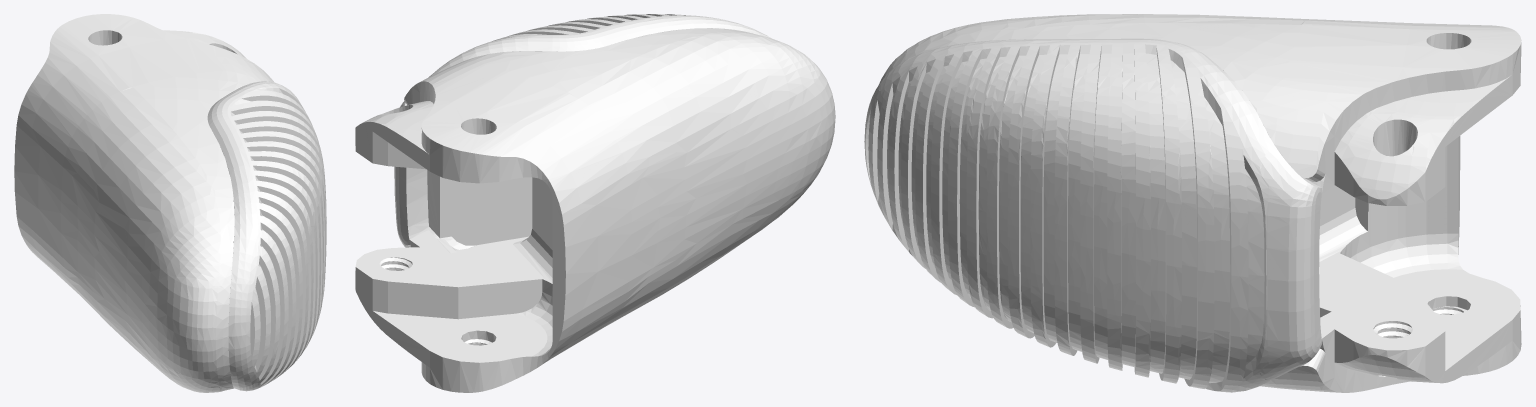
Rendered from rh_middle_distal_vis.obj.
3 renders of one model, left to right at view 1: azimuth 30°, elevation 25°; view 2: azimuth 150°, elevation 25°; view 3: azimuth 270°, elevation 25°, orthographic. The views are drawn at different scales.
Parts seen in each view (by area): view 1: rh_middle_distal; view 2: rh_middle_distal; view 3: rh_middle_distal.
Boxes of the visible parts, x1=… form: rh_middle_distal: x1=14, y1=14, x2=326, y2=392; rh_middle_distal: x1=355, y1=14, x2=835, y2=392; rh_middle_distal: x1=864, y1=14, x2=1521, y2=392.
Size of the model in its own units: 0.0184 by 0.0157 by 0.0295.
1 material, 1 textured.
